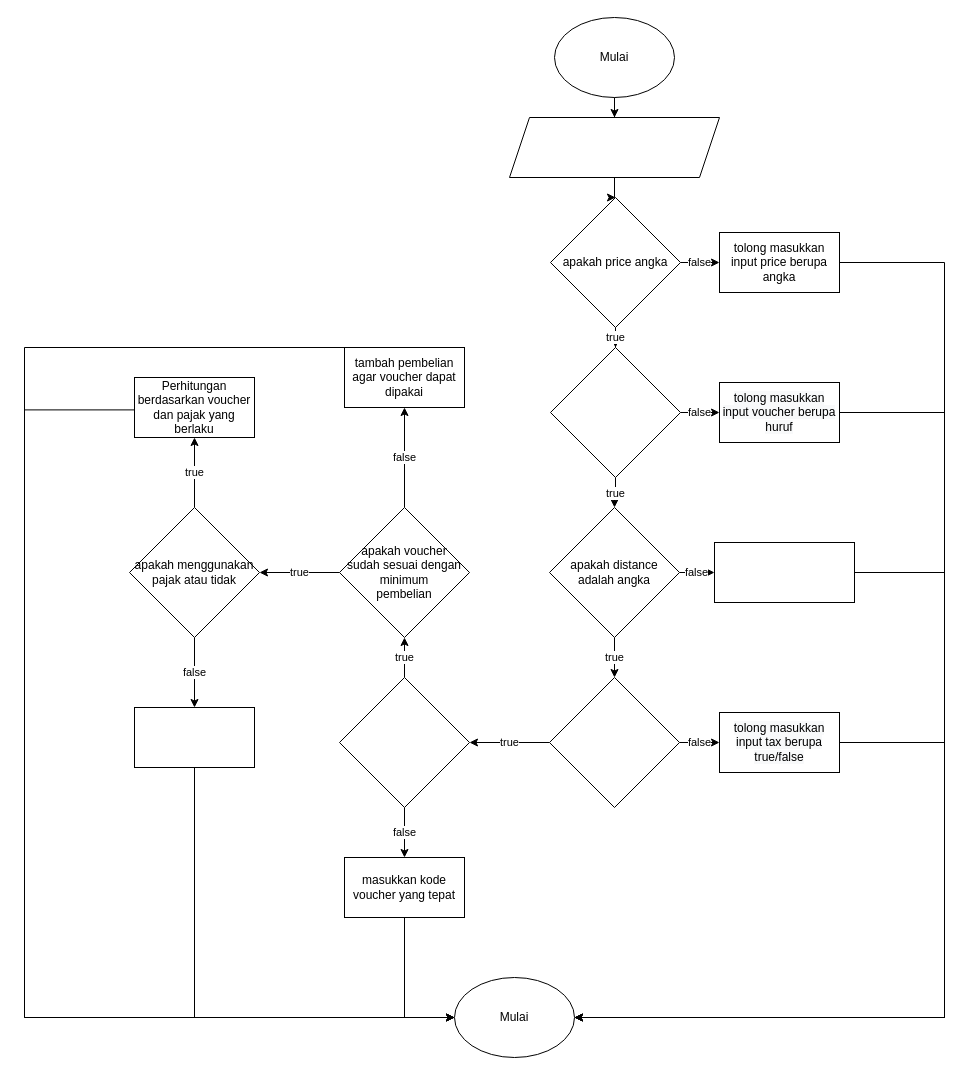
Some shapes in this 970 by 1075 pixel diagram are drawn without their labels. Each missing label, with the centre of its shape:
"apakah menggunakan voucher dan sudah benar penulisannya" belongs at (x=404, y=742).
"apakah tax adalah boolean" belongs at (x=614, y=742).
"apakah voucher adalah string" belongs at (x=615, y=412).
"input parameter price, voucher, distance, tax" belongs at (x=614, y=147).
"Perhitungan berdasarkan voucher tanpa pajak yang berlaku" belongs at (x=194, y=737).
"tolong masukkan input distance berupa angka" belongs at (x=784, y=572).
